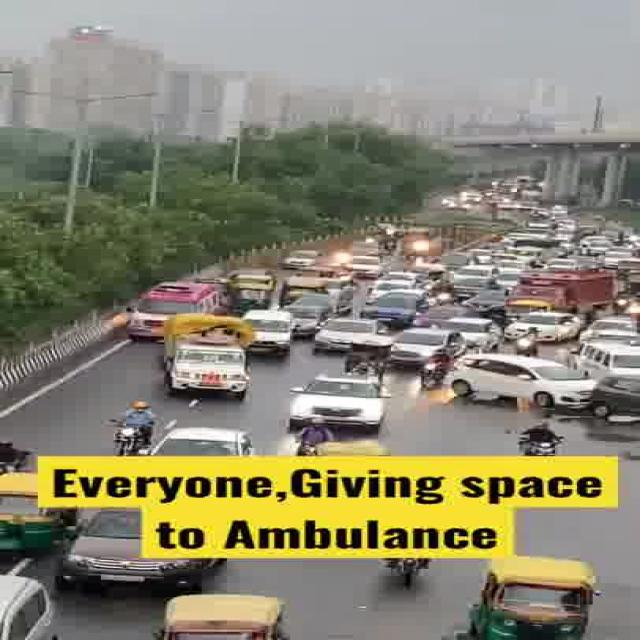ambulance: (117, 280, 222, 340)
